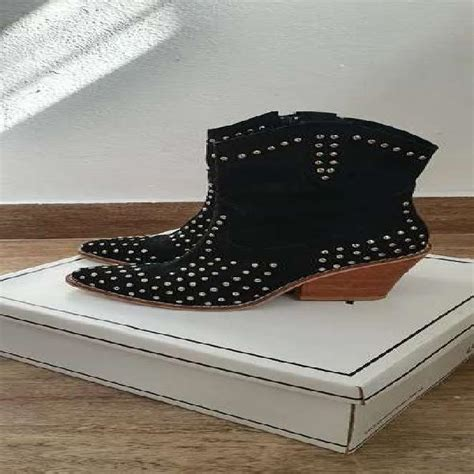gamuza: (73, 107, 440, 310)
